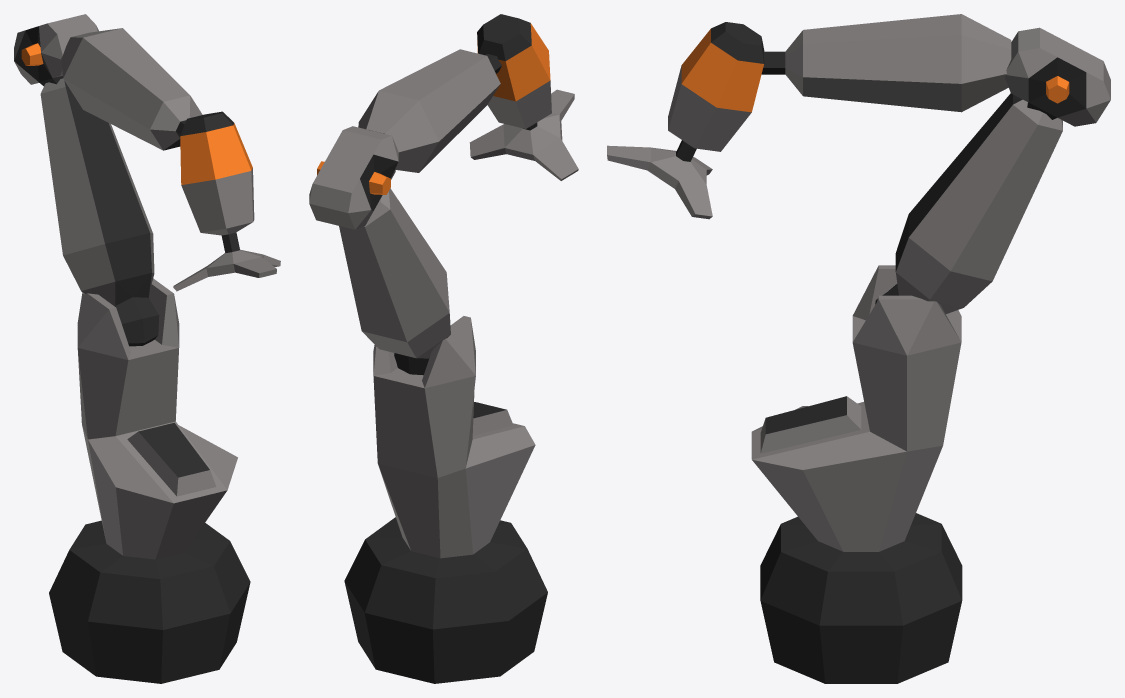
Rendered from scifi-robotic-arm.glb.
3 views of the same model, side by side, from view 1: azimuth 30°, elevation 25°; view 2: azimuth 150°, elevation 25°; view 3: azimuth 270°, elevation 25° (orthographic). The views are drawn at different scales.
Parts seen in each view (by area): view 1: scifi-robotic-arm-base, scifi-robotic-arm-first, scifi-robotic-arm-third, scifi-robotic-arm-hand, scifi-robotic-arm-second; view 2: scifi-robotic-arm-base, scifi-robotic-arm-first, scifi-robotic-arm-hand, scifi-robotic-arm-third, scifi-robotic-arm-second; view 3: scifi-robotic-arm-base, scifi-robotic-arm-first, scifi-robotic-arm-third, scifi-robotic-arm-hand, scifi-robotic-arm-second.
Boxes of the visible parts, <box> form: scifi-robotic-arm-base: <box>49,278,250,683</box>; scifi-robotic-arm-first: <box>40,78,159,346</box>; scifi-robotic-arm-third: <box>61,28,202,150</box>; scifi-robotic-arm-hand: <box>173,111,280,291</box>; scifi-robotic-arm-second: <box>14,14,98,86</box>; scifi-robotic-arm-base: <box>344,316,547,683</box>; scifi-robotic-arm-first: <box>339,188,450,375</box>; scifi-robotic-arm-hand: <box>469,14,578,180</box>; scifi-robotic-arm-third: <box>358,49,501,172</box>; scifi-robotic-arm-second: <box>309,126,398,229</box>; scifi-robotic-arm-base: <box>751,265,962,683</box>; scifi-robotic-arm-first: <box>875,93,1062,313</box>; scifi-robotic-arm-third: <box>761,14,1011,112</box>; scifi-robotic-arm-hand: <box>607,22,764,219</box>; scifi-robotic-arm-second: <box>1005,27,1110,126</box>.
Bounding box in the file's own units: 0.5916 × 2.01 × 1.48.
Materials: 1 (1 with a texture image).
